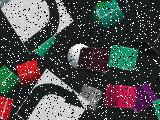Left: (1, 0, 74, 54)
Right: (16, 69, 90, 120)
